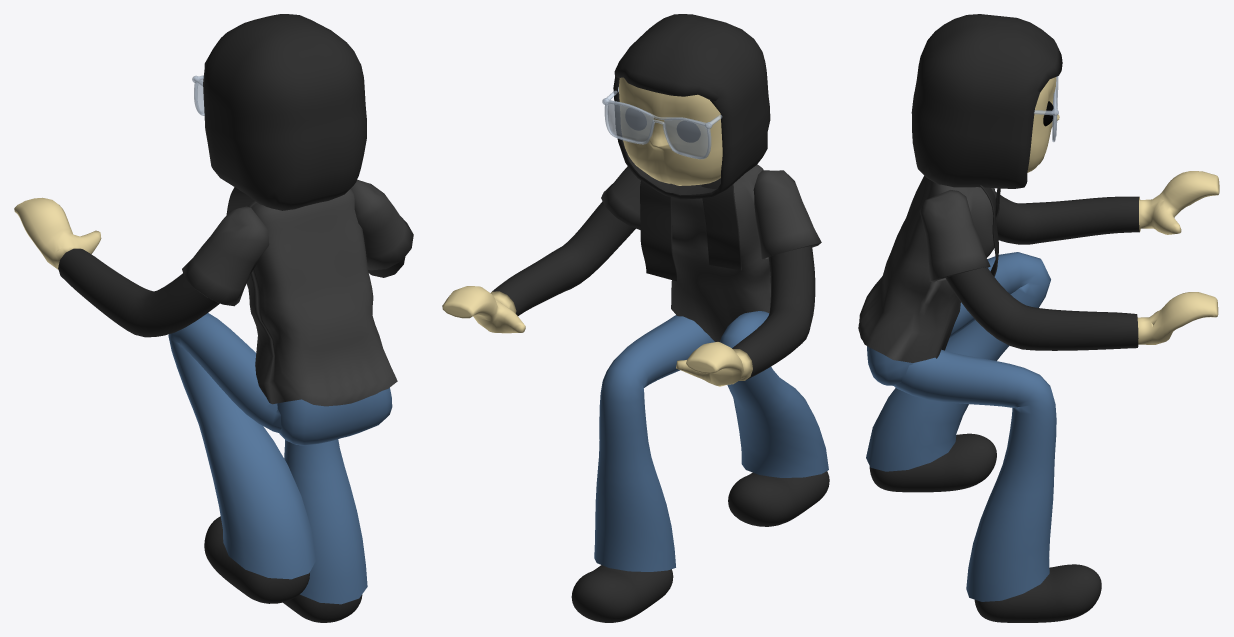
The model's file is hajar.fbx.
3 views of the same model, side by side, from view 1: azimuth 30°, elevation 25°; view 2: azimuth 150°, elevation 25°; view 3: azimuth 270°, elevation 25° (orthographic). The views are drawn at different scales.
Parts seen in each view (by area): view 1: NurbsPath.003, Sphere.024, BézierCurve.035, NurbsPath.001, BézierCurve.034, Cube.036, BézierCurve.032, BézierCurve.033; view 2: BézierCurve.034, NurbsPath.003, Sphere.024, BézierCurve.035, NurbsPath.002, Sphere.025, NurbsPath.001, BézierCurve.033, BézierCurve.032, NurbsCircle, NurbsCircle.001, Cube.035 (+2 smaller); view 3: Sphere.024, BézierCurve.034, NurbsPath.003, NurbsPath.002, BézierCurve.035, NurbsPath.001, BézierCurve.033, BézierCurve.032, Sphere.025, Cube.036.
Boxes of the visible parts, box(x1,y1,x2,y2) form: NurbsPath.003: box(182, 179, 413, 406); Sphere.024: box(203, 14, 366, 210); BézierCurve.035: box(168, 313, 315, 579); NurbsPath.001: box(14, 197, 259, 337); BézierCurve.034: box(284, 439, 367, 604); Cube.036: box(277, 387, 392, 445); BézierCurve.032: box(204, 516, 309, 603); BézierCurve.033: box(283, 594, 362, 622); BézierCurve.034: box(594, 315, 714, 571); NurbsPath.003: box(601, 164, 821, 341); Sphere.024: box(613, 14, 770, 199); BézierCurve.035: box(720, 311, 828, 477); NurbsPath.002: box(442, 201, 635, 333); Sphere.025: box(618, 77, 722, 185); NurbsPath.001: box(676, 245, 815, 386); BézierCurve.033: box(571, 565, 673, 622); BézierCurve.032: box(728, 471, 829, 526); NurbsCircle: box(640, 181, 677, 281); NurbsCircle.001: box(701, 178, 741, 270); Cube.035: box(664, 118, 709, 159); Sphere.024: box(911, 14, 1062, 188); BézierCurve.034: box(894, 349, 1056, 601); NurbsPath.003: box(858, 175, 994, 362); NurbsPath.002: box(945, 267, 1218, 350); BézierCurve.035: box(866, 252, 1050, 471); NurbsPath.001: box(995, 171, 1219, 244); BézierCurve.033: box(974, 564, 1101, 622); BézierCurve.032: box(869, 433, 996, 492); Sphere.025: box(1027, 77, 1059, 172); Cube.036: box(867, 346, 913, 385).
Size of the model in its own units: 390 by 758 by 433.
